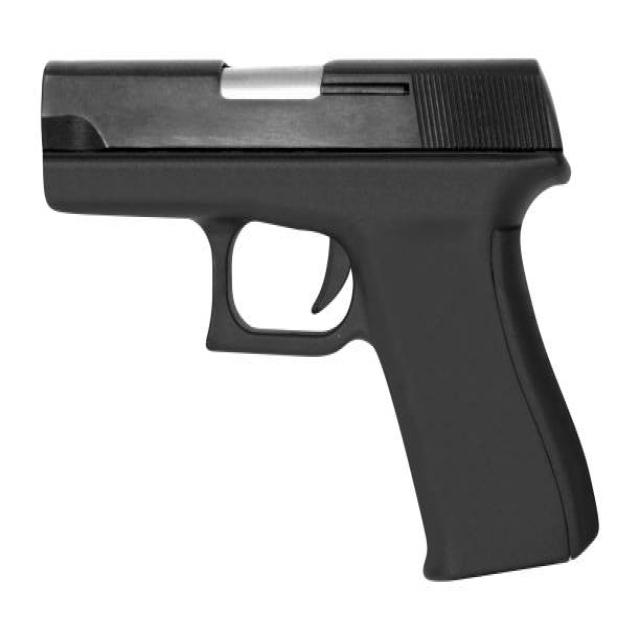pistol: (36, 46, 605, 592)
